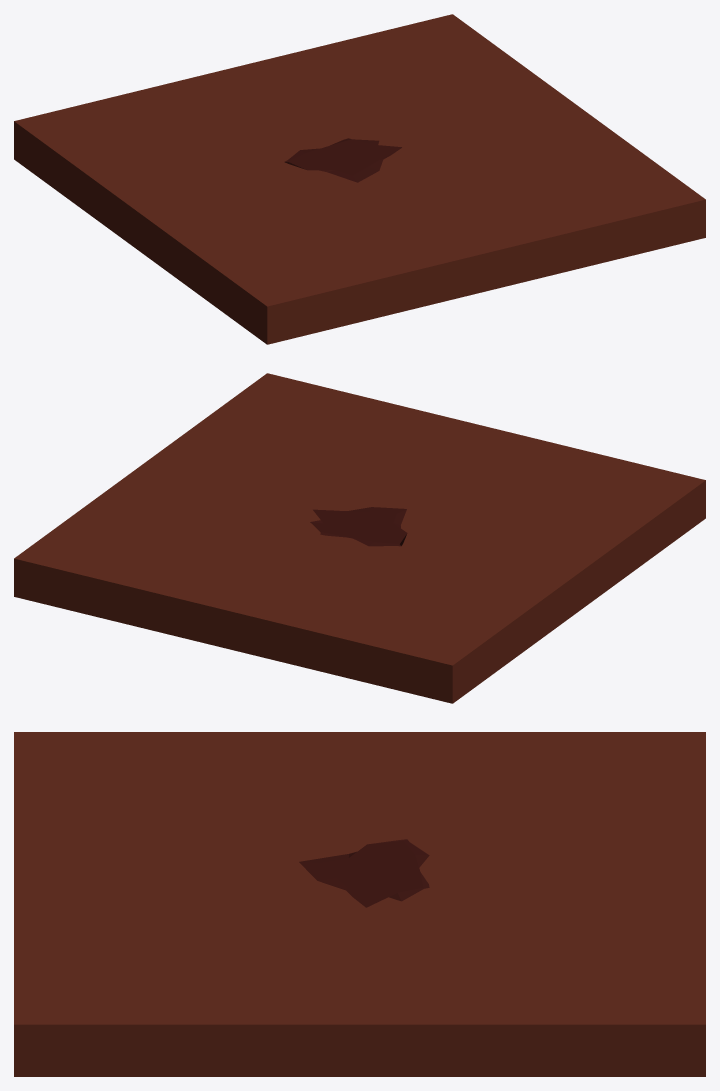
File: casino_stage.glb
The picture shows the model from 3 angles, top to bottom: view 1: azimuth 30°, elevation 25°; view 2: azimuth 150°, elevation 25°; view 3: azimuth 270°, elevation 25°; orthographic projection. The views are drawn at different scales.
Parts seen in each view (by area): view 1: riser, worn; view 2: riser, worn; view 3: riser, worn.
Part boxes in pixels (x1,y1,x2,y2): riser: (14,14,705,344); worn: (284,138,401,182); riser: (14,373,705,703); worn: (310,507,407,546); riser: (14,732,705,1076); worn: (299,839,429,907).
Bounding box in the file's own units: 12 × 1.01 × 12.
